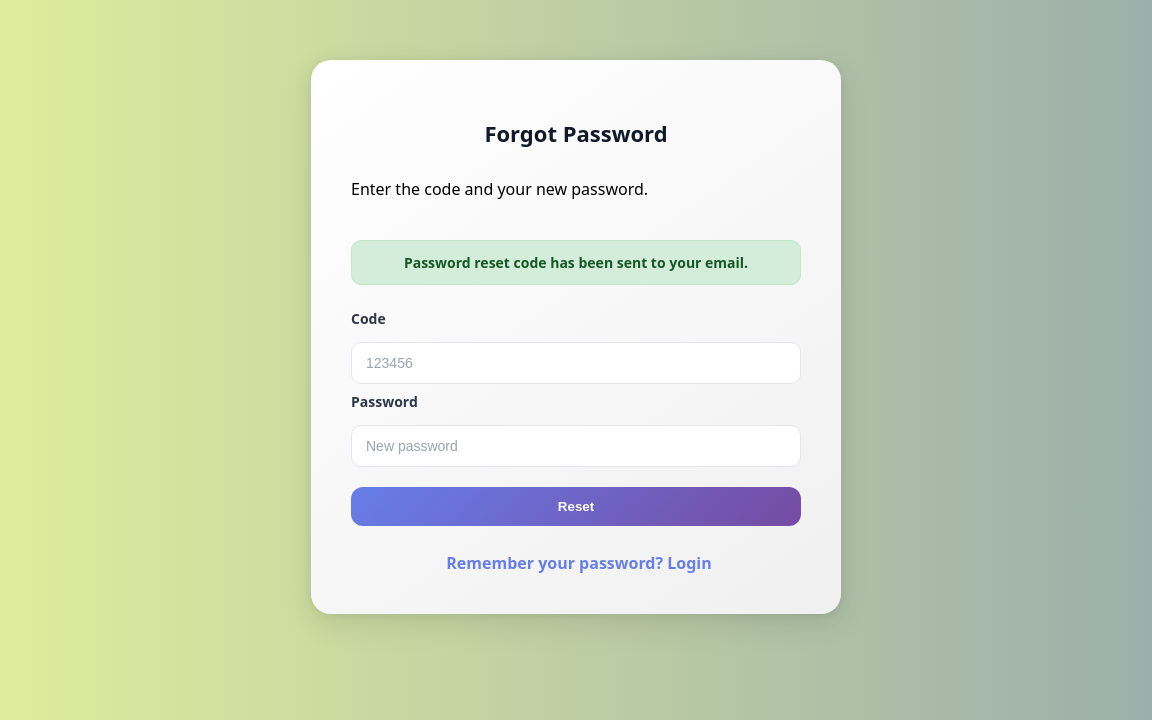
it: ResetPassword component › verifies code via server and completes reset
In the field with placeholder "123456": (576,363) [351,342,801,384], type "9999"
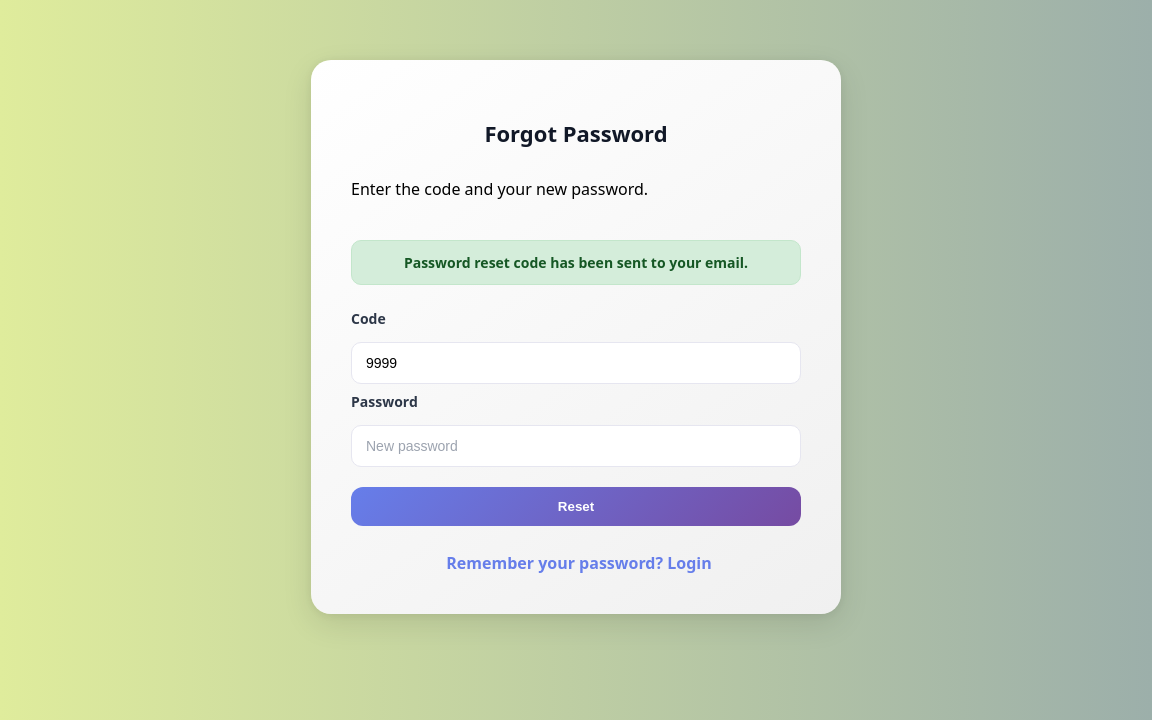
In the password field with placeholder "New password": (576,446) [351,425,801,467], type "SrvPass!23"
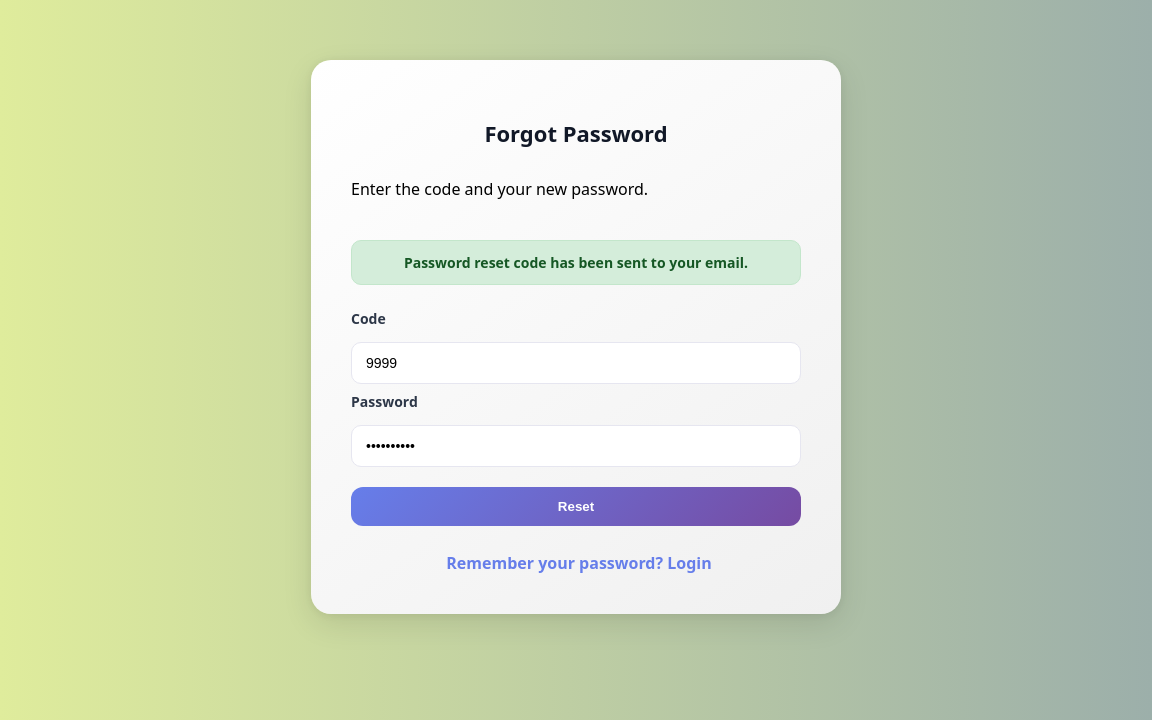
Click the button "Reset": (576,507) [351,487,801,526]
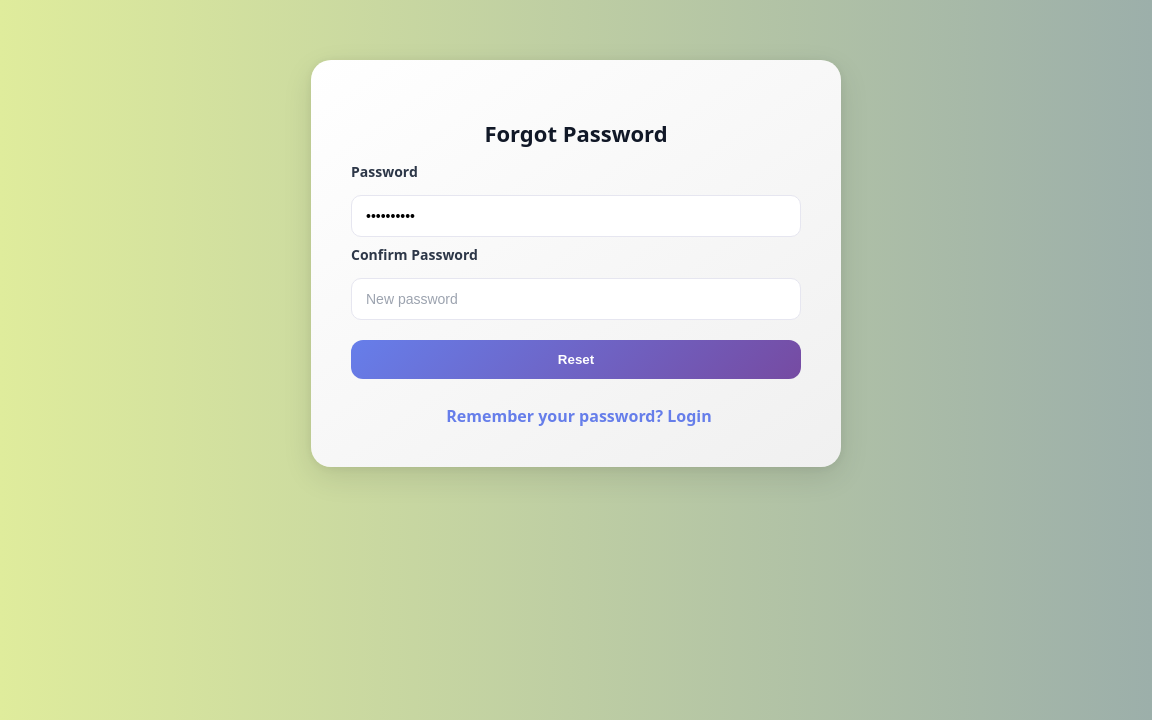
Expected: the password field labelled "Confirm Password" is shown
In the password field labelled "Confirm Password": (576,299) [351,278,801,320], type "SrvPass!23"
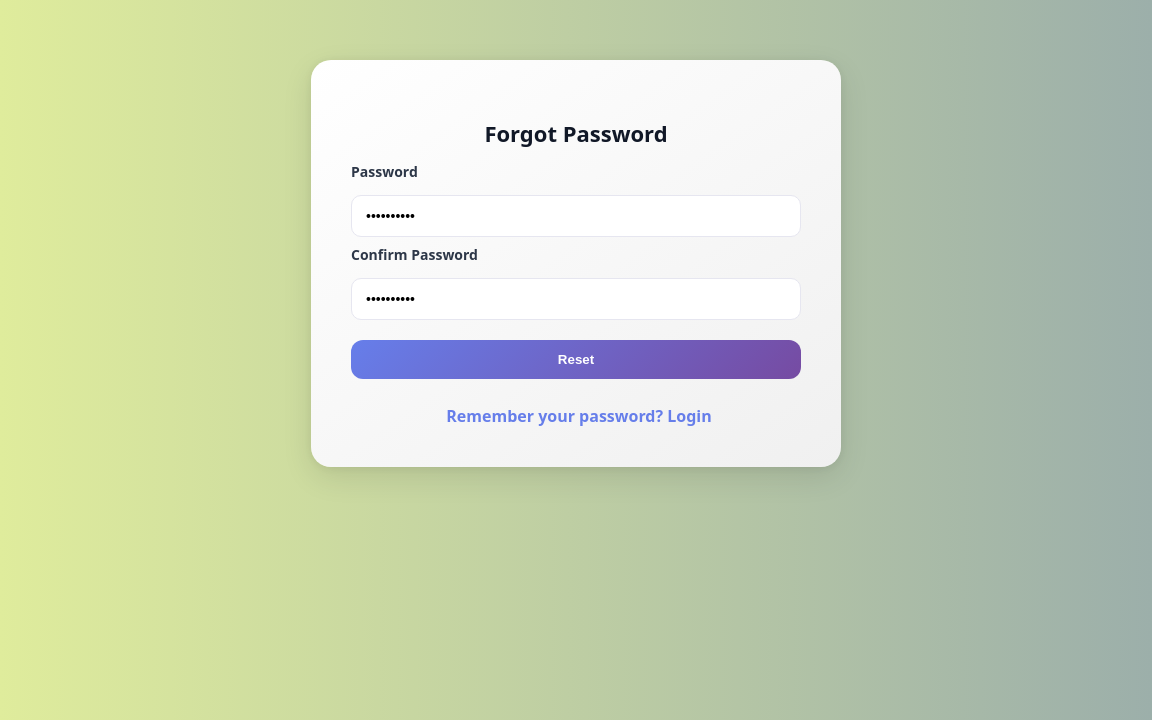
Click the button "Reset": (576,360) [351,340,801,379]
Wait 1500 ms
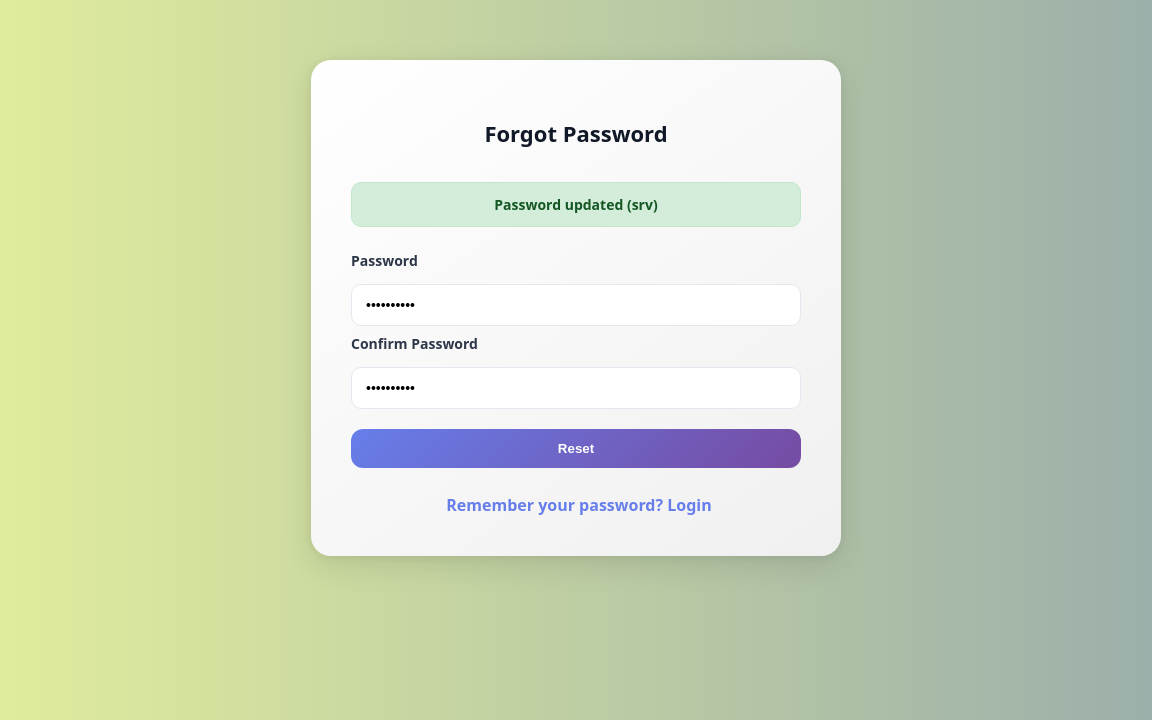
Expected: the text "Password updated (srv)" is shown, [351,182,801,227]
